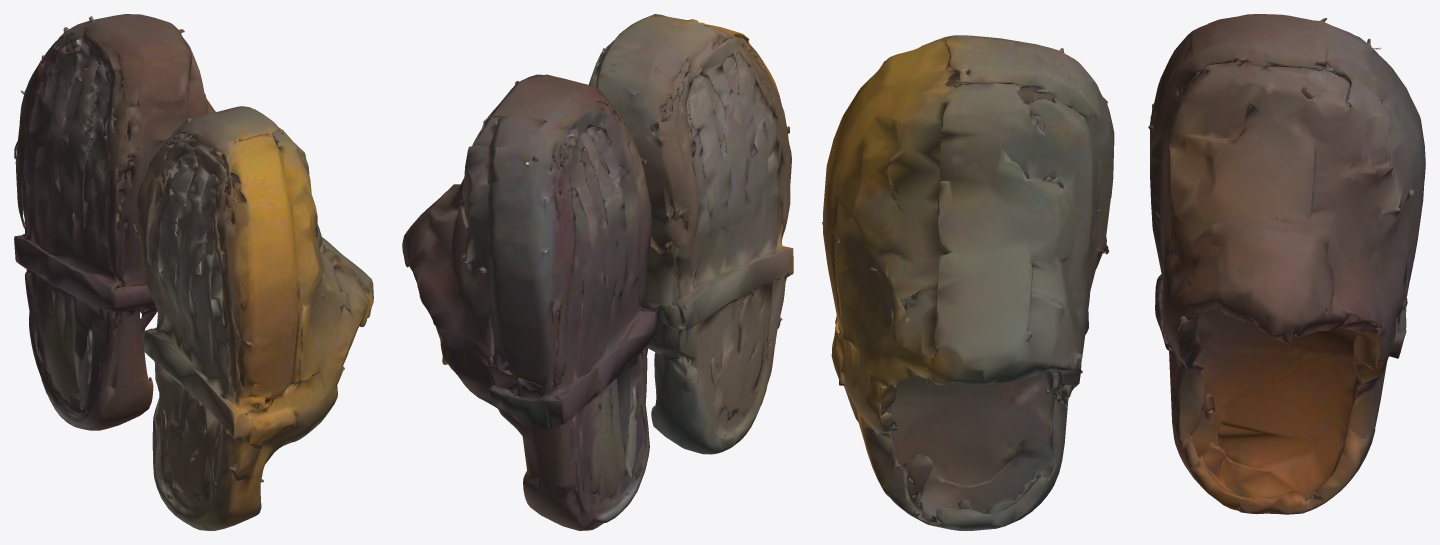
Rendered from slippers-web.glb.
3 renders of one model, left to right at view 1: azimuth 30°, elevation 25°; view 2: azimuth 150°, elevation 25°; view 3: azimuth 270°, elevation 25°, orthographic. The views are drawn at different scales.
Parts seen in each view (by area): view 1: tripo_node_25bf505b-471b-4493-9be9-32ab1d5cab7f; view 2: tripo_node_25bf505b-471b-4493-9be9-32ab1d5cab7f; view 3: tripo_node_25bf505b-471b-4493-9be9-32ab1d5cab7f.
Part boxes in pixels (x1,y1,x2,y2): tripo_node_25bf505b-471b-4493-9be9-32ab1d5cab7f: [14, 14, 373, 530]; tripo_node_25bf505b-471b-4493-9be9-32ab1d5cab7f: [402, 14, 793, 530]; tripo_node_25bf505b-471b-4493-9be9-32ab1d5cab7f: [822, 14, 1425, 530].
Size of the model in its own units: 0.4832 by 0.953 by 1.
Materials: 1 (1 with a texture image).
